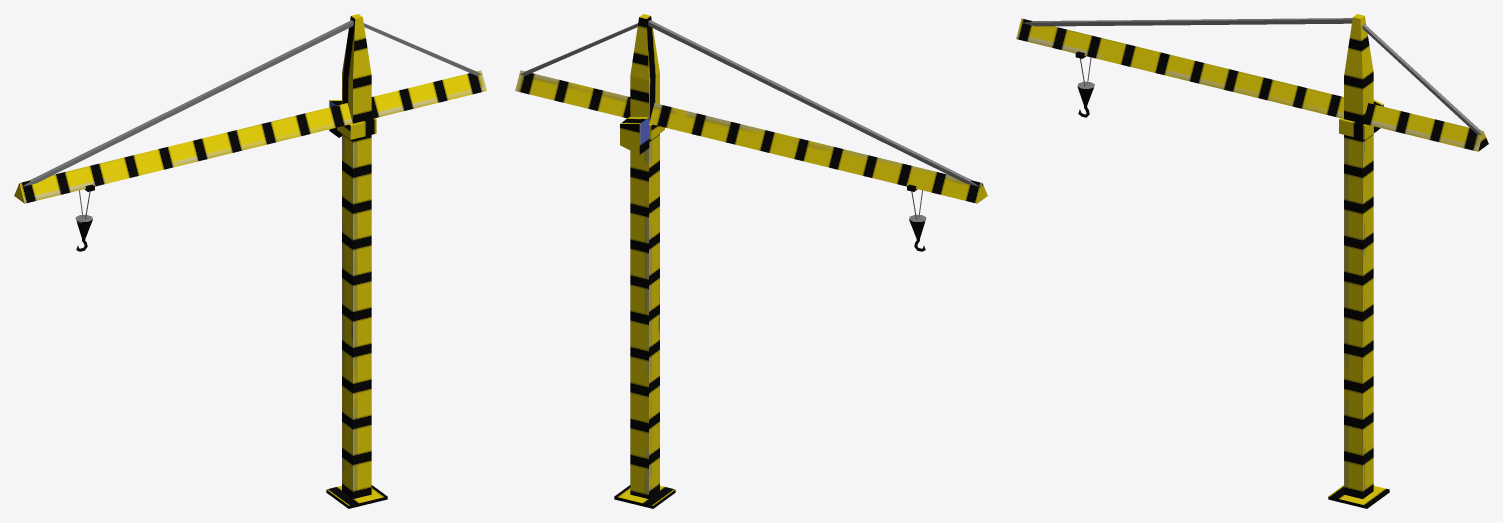
File: crane.fbx
3 renders of one model, left to right at view 1: azimuth 30°, elevation 25°; view 2: azimuth 150°, elevation 25°; view 3: azimuth 330°, elevation 25°, orthographic.
Parts seen in each view (by area): view 1: pCube10; view 2: pCube10; view 3: pCube10.
Boxes of the visible parts, x1,y1,x2,y2 form: pCube10: (14,14,486,508); pCube10: (515,14,987,508); pCube10: (1016,14,1488,508).
Bounding box in the file's own units: 38.82 × 38.48 × 4.01.
